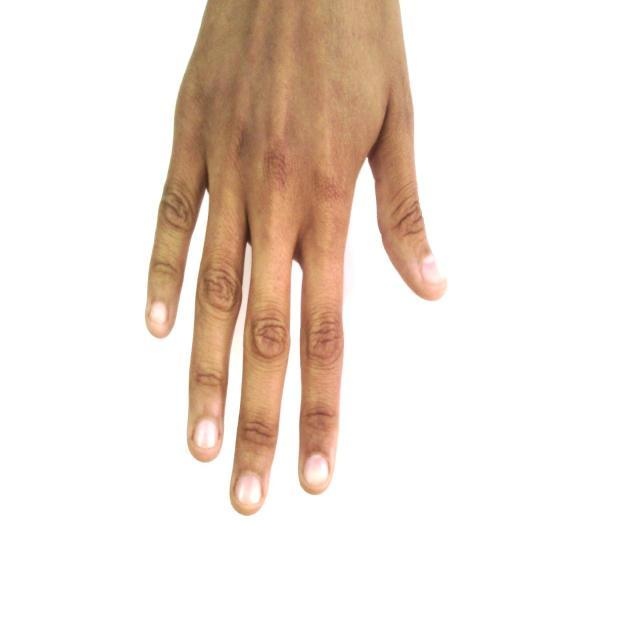Fingernail: (304, 455, 328, 488), (237, 473, 261, 506), (194, 419, 218, 449), (423, 256, 446, 285), (151, 303, 167, 328)
